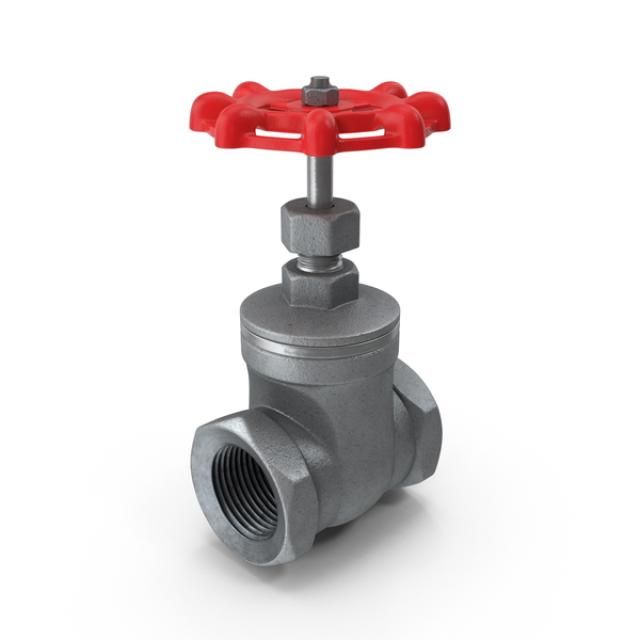Wheel Handle Valve Threaded: (183, 62, 457, 580)
